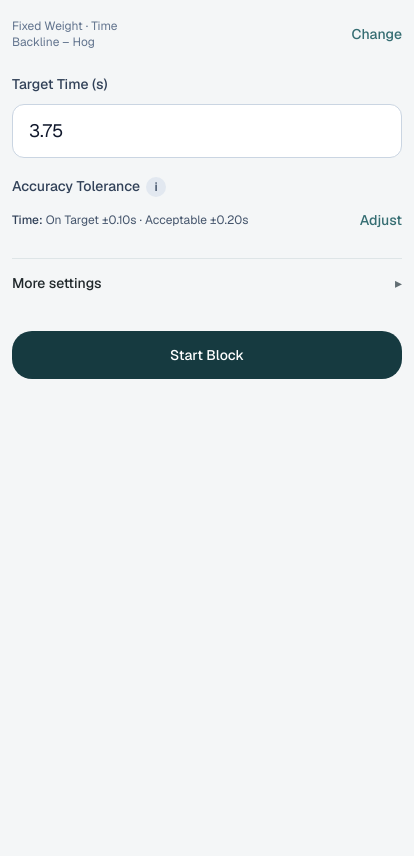
Test: TrainingSetup — Smart Random Profiles selector visibility › appears for Variable Weight, whose default target source is Smart Random
This screenshot has width=414, height=856.
Click the button "Change" at (377, 34), box [352,12,402,56]
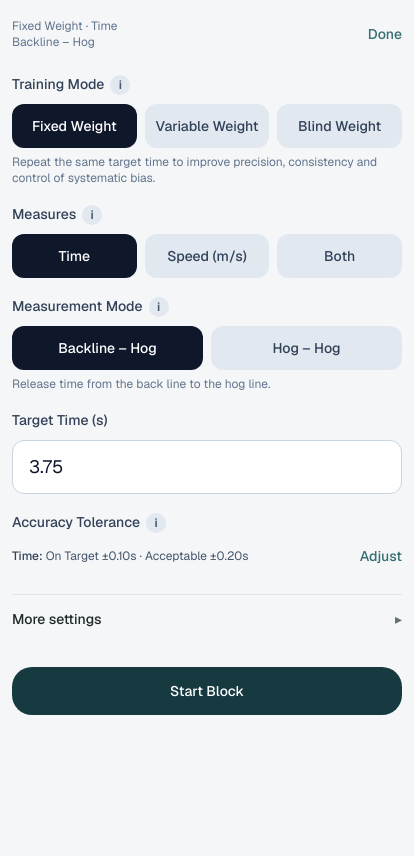
Click the button "Variable Weight" at (207, 126), box [145,104,269,148]
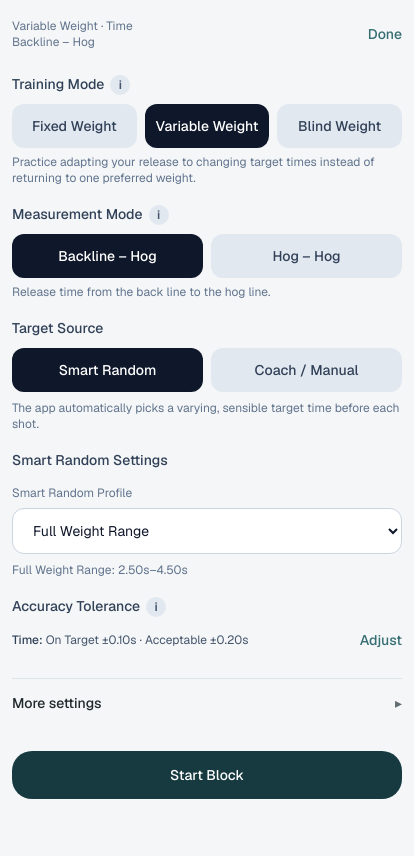
Expected: the text "Smart Random Settings" is shown, [12,451,168,469]
